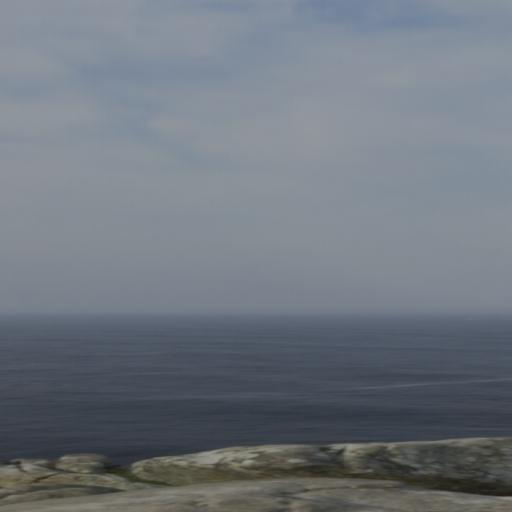nothing: (0, 3, 508, 512)
